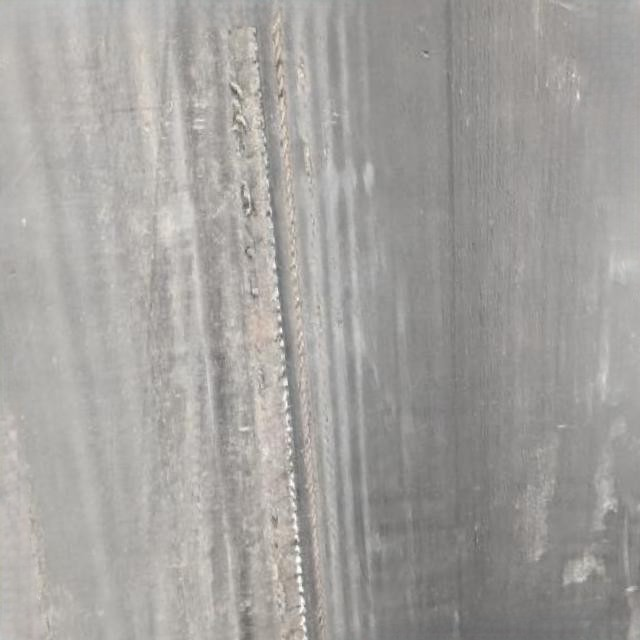Wear: (210, 8, 332, 640)
